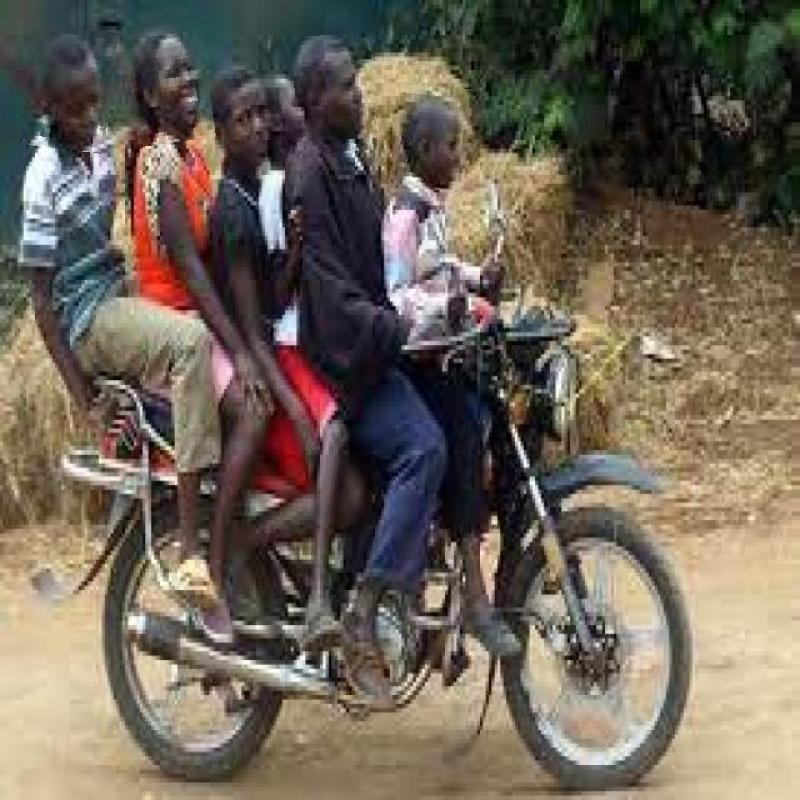nohelmet: (286, 21, 376, 153), (23, 26, 114, 152), (125, 18, 212, 146), (392, 83, 483, 192)
